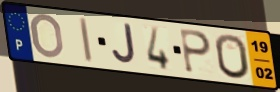4: (145, 25, 173, 73)
I: (78, 16, 94, 65)
J: (111, 22, 139, 67)
O: (213, 33, 252, 81), (29, 12, 66, 60)
P: (179, 27, 214, 76)
